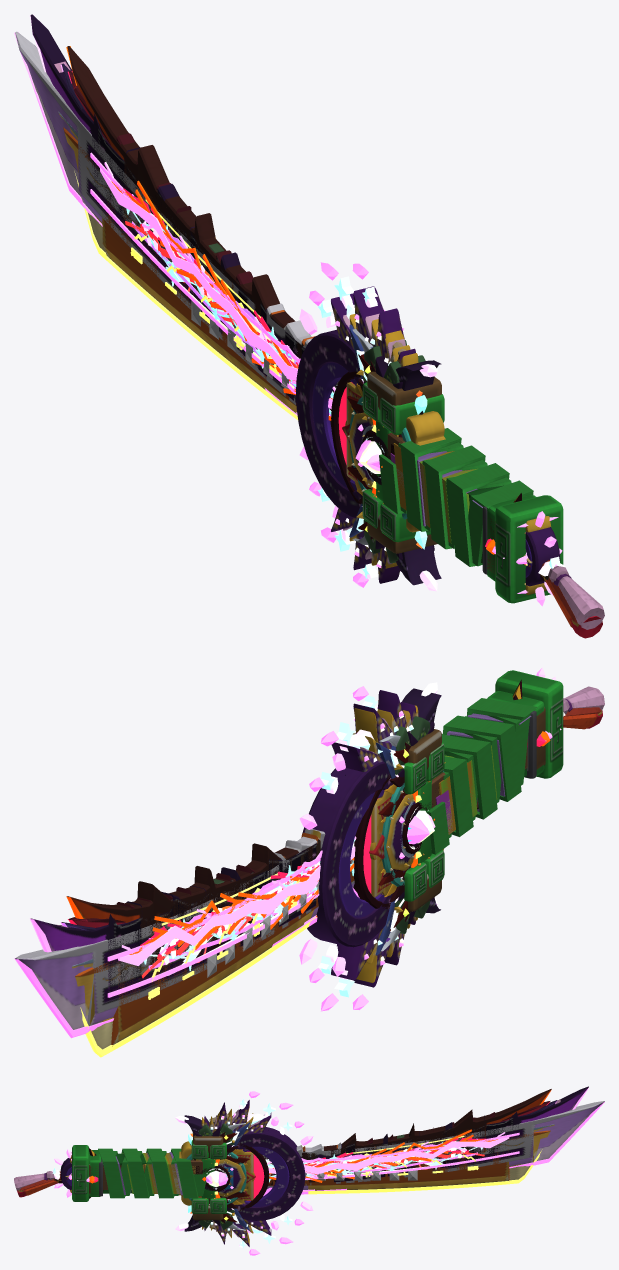
Rendered from NinjaSim_HeroKatanas.fbx.
3 renders of one model, top to bottom at view 1: azimuth 30°, elevation 25°; view 2: azimuth 150°, elevation 25°; view 3: azimuth 270°, elevation 25°, orthographic. The views are drawn at different scales.
Parts seen in each view (by area): view 1: HeroKatana_jade_katana, HeroKatana_emperors_end, HeroKatana_oblivion_katana, HeroKatana_hellfang, HeroKatana_ragnablade, HeroKatana_emperors_end__Glow, HeroKatana_oblivion_katana__Glow, HeroKatana_oak_fang, HeroKatana_bloodmoon_katana, HeroKatana_umbra_katana, HeroKatana_eventide, HeroKatana_ragnablade__Glow (+11 smaller); view 2: HeroKatana_jade_katana, HeroKatana_emperors_end, HeroKatana_oblivion_katana, HeroKatana_ragnablade, HeroKatana_hellfang, HeroKatana_emperors_end__Glow, HeroKatana_oblivion_katana__Glow, HeroKatana_bloodmoon_katana, HeroKatana_oak_fang, HeroKatana_ragnablade__Glow, HeroKatana_hellfang__Glow, HeroKatana_umbra_katana (+17 smaller); view 3: HeroKatana_emperors_end, HeroKatana_jade_katana, HeroKatana_oblivion_katana, HeroKatana_ragnablade, HeroKatana_hellfang, HeroKatana_emperors_end__Glow, HeroKatana_oblivion_katana__Glow, HeroKatana_ragnablade__Glow, HeroKatana_bloodmoon_katana, HeroKatana_umbra_katana, HeroKatana_hellfang__Glow, HeroKatana_oak_fang (+16 smaller).
Boxes of the visible parts, x1,y1,x2,y2 form: HeroKatana_jade_katana: [362, 382, 563, 603]; HeroKatana_emperors_end: [15, 31, 415, 583]; HeroKatana_oblivion_katana: [30, 14, 560, 586]; HeroKatana_hellfang: [67, 46, 402, 531]; HeroKatana_ragnablade: [63, 127, 405, 503]; HeroKatana_emperors_end__Glow: [14, 32, 562, 593]; HeroKatana_oblivion_katana__Glow: [29, 14, 557, 606]; HeroKatana_oak_fang: [367, 371, 577, 623]; HeroKatana_bloodmoon_katana: [68, 70, 602, 638]; HeroKatana_umbra_katana: [61, 63, 532, 577]; HeroKatana_eventide: [54, 61, 604, 629]; HeroKatana_ragnablade__Glow: [74, 171, 376, 488]; HeroKatana_jade_katana: [403, 670, 563, 901]; HeroKatana_emperors_end: [15, 690, 439, 1029]; HeroKatana_oblivion_katana: [31, 721, 452, 992]; HeroKatana_ragnablade: [75, 713, 478, 1049]; HeroKatana_hellfang: [67, 749, 408, 964]; HeroKatana_emperors_end__Glow: [14, 686, 552, 1038]; HeroKatana_oblivion_katana__Glow: [30, 667, 561, 976]; HeroKatana_bloodmoon_katana: [69, 679, 602, 927]; HeroKatana_oak_fang: [408, 707, 601, 911]; HeroKatana_ragnablade__Glow: [80, 795, 421, 1057]; HeroKatana_hellfang__Glow: [66, 731, 550, 954]; HeroKatana_umbra_katana: [61, 775, 384, 930]; HeroKatana_emperors_end: [144, 1100, 604, 1246]; HeroKatana_jade_katana: [72, 1133, 226, 1213]; HeroKatana_oblivion_katana: [60, 1086, 588, 1226]; HeroKatana_ragnablade: [200, 1113, 550, 1232]; HeroKatana_hellfang: [191, 1089, 551, 1222]; HeroKatana_emperors_end__Glow: [68, 1091, 604, 1255]; HeroKatana_oblivion_katana__Glow: [52, 1087, 588, 1233]; HeroKatana_ragnablade__Glow: [214, 1149, 542, 1194]; HeroKatana_bloodmoon_katana: [17, 1101, 550, 1223]; HeroKatana_umbra_katana: [66, 1100, 557, 1207]; HeroKatana_hellfang__Glow: [89, 1090, 551, 1198]; HeroKatana_oak_fang: [19, 1134, 223, 1220].
Bounding box in the file's own units: 0.624 × 2.59 × 8.21.
43 materials, 23 textured.
